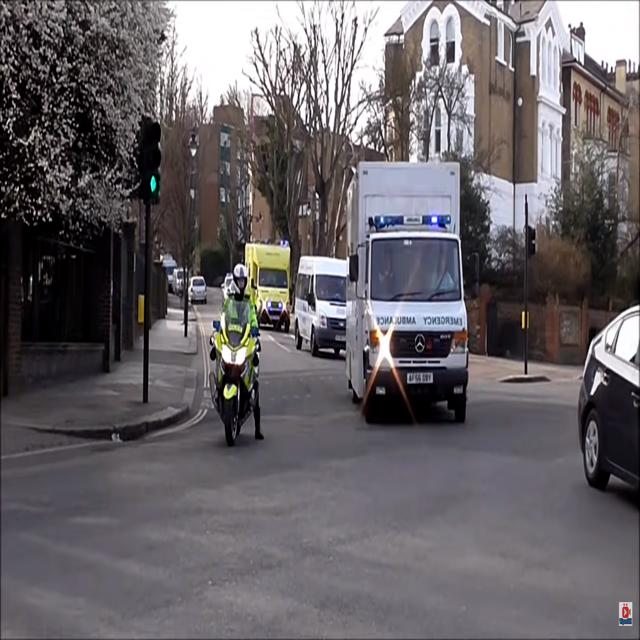emergency-vehicles: (332, 142, 496, 433), (207, 273, 278, 462), (241, 229, 309, 356)
